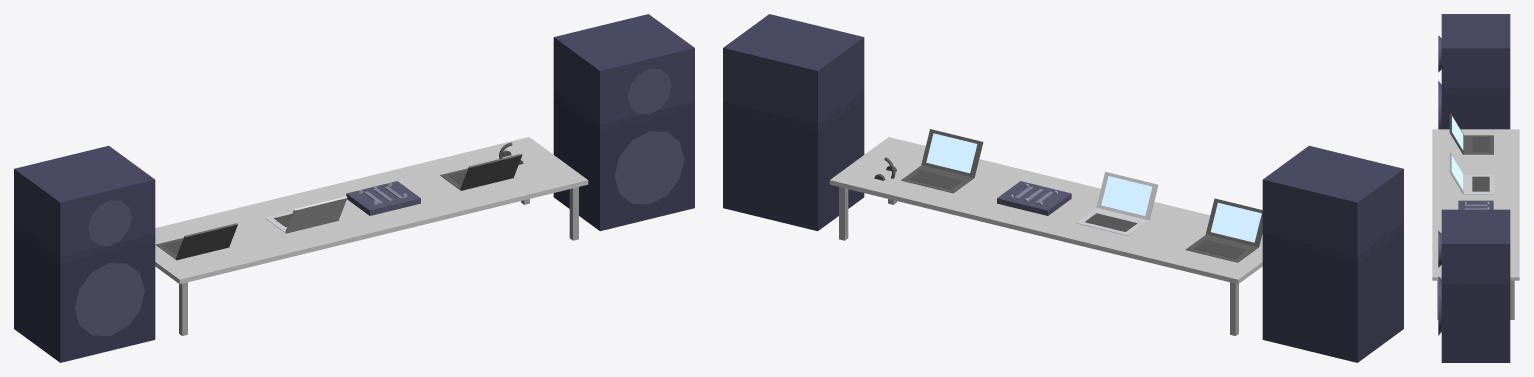
File: dj-booth.glb
3 renders of one model, left to right at view 1: azimuth 30°, elevation 25°; view 2: azimuth 150°, elevation 25°; view 3: azimuth 270°, elevation 25°, orthographic. The views are drawn at different scales.
Parts seen in each view (by area): view 1: amp-top-L, amp-bot-L, table-top, mixer-body, laptop-base-0, laptop-base-1, table-leg-0; view 2: amp-bot-L, amp-top-L, table-top, laptop-screen-0, laptop-base-0, laptop-keys-0, laptop-base-1, mixer-body, table-leg-0; view 3: amp-top-L, amp-bot-L, table-top, mixer-body, laptop-keys-0, laptop-base-1, laptop-base-0, laptop-screen-0, table-leg-0, fader-0.
Part boxes in pixels (bbox=[...]): amp-top-L: bbox=[14, 14, 694, 263]; amp-bot-L: bbox=[14, 91, 694, 362]; table-top: bbox=[155, 137, 588, 283]; mixer-body: bbox=[75, 68, 684, 336]; laptop-base-0: bbox=[156, 153, 522, 260]; laptop-base-1: bbox=[265, 196, 347, 233]; table-leg-0: bbox=[179, 187, 578, 335]; amp-bot-L: bbox=[723, 91, 1403, 362]; amp-top-L: bbox=[723, 14, 1403, 263]; table-top: bbox=[829, 137, 1262, 283]; laptop-screen-0: bbox=[926, 133, 1261, 242]; laptop-base-0: bbox=[901, 129, 1262, 262]; laptop-keys-0: bbox=[874, 166, 1246, 258]; laptop-base-1: bbox=[1076, 171, 1158, 235]; mixer-body: bbox=[997, 181, 1071, 215]; table-leg-0: bbox=[839, 187, 1238, 335]; amp-top-L: bbox=[1441, 14, 1510, 288]; amp-bot-L: bbox=[1441, 88, 1510, 362]; table-top: bbox=[1432, 129, 1519, 280]; mixer-body: bbox=[1438, 35, 1493, 335]; laptop-keys-0: bbox=[1472, 137, 1489, 191]; laptop-base-1: bbox=[1449, 153, 1493, 194]; laptop-base-0: bbox=[1449, 113, 1493, 154]; laptop-screen-0: bbox=[1452, 116, 1463, 189]; table-leg-0: bbox=[1437, 280, 1514, 319]; fader-0: bbox=[1464, 204, 1487, 209].
Bounding box in the file's own units: 4.35 × 1.05 × 0.7.
